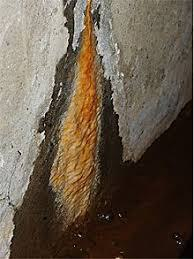Corrosion: (48, 1, 105, 231)
Spalling: (9, 1, 134, 259)
